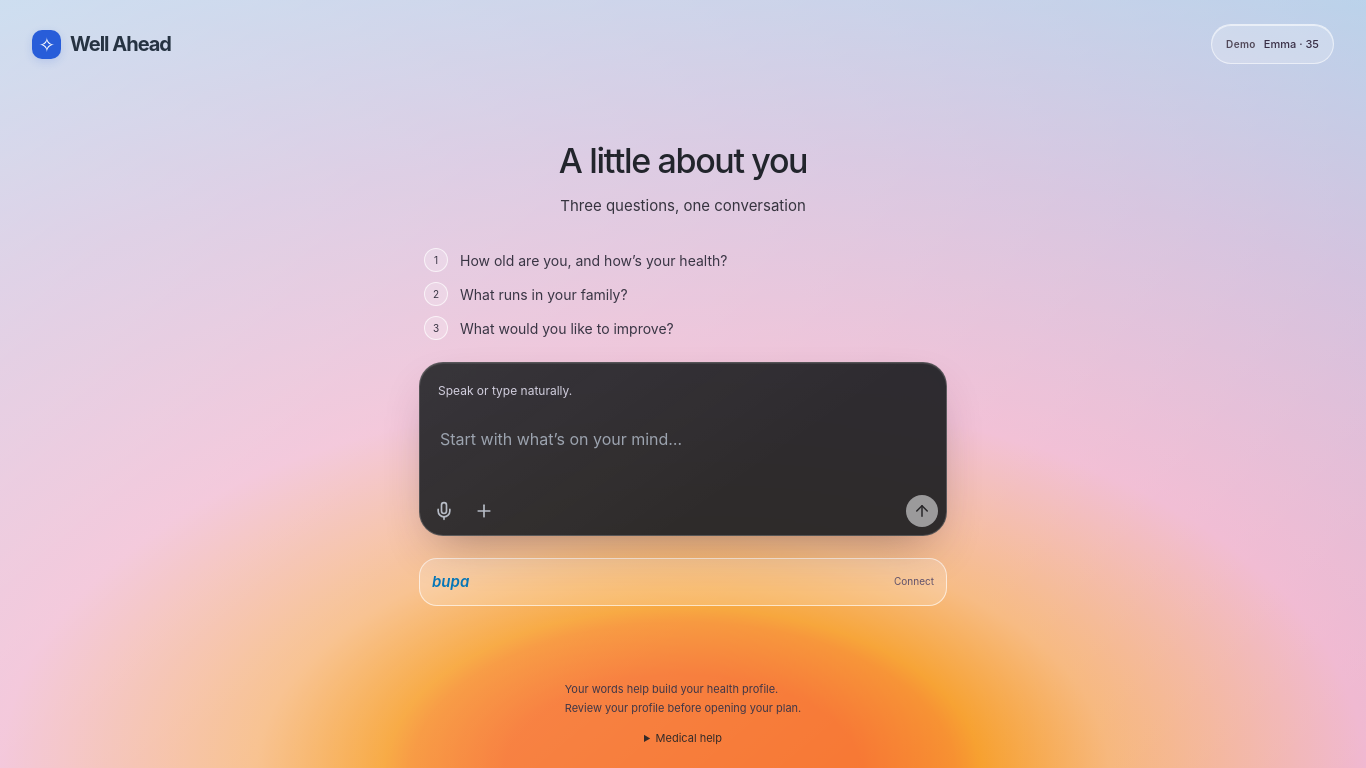
it: cancelling a plan preserves the review and ignores a late response
The width and height of the screenshot is (1366, 768).
Type "I am 56. I enjoy walking." into the text box at (683, 452), box [428, 417, 938, 487]
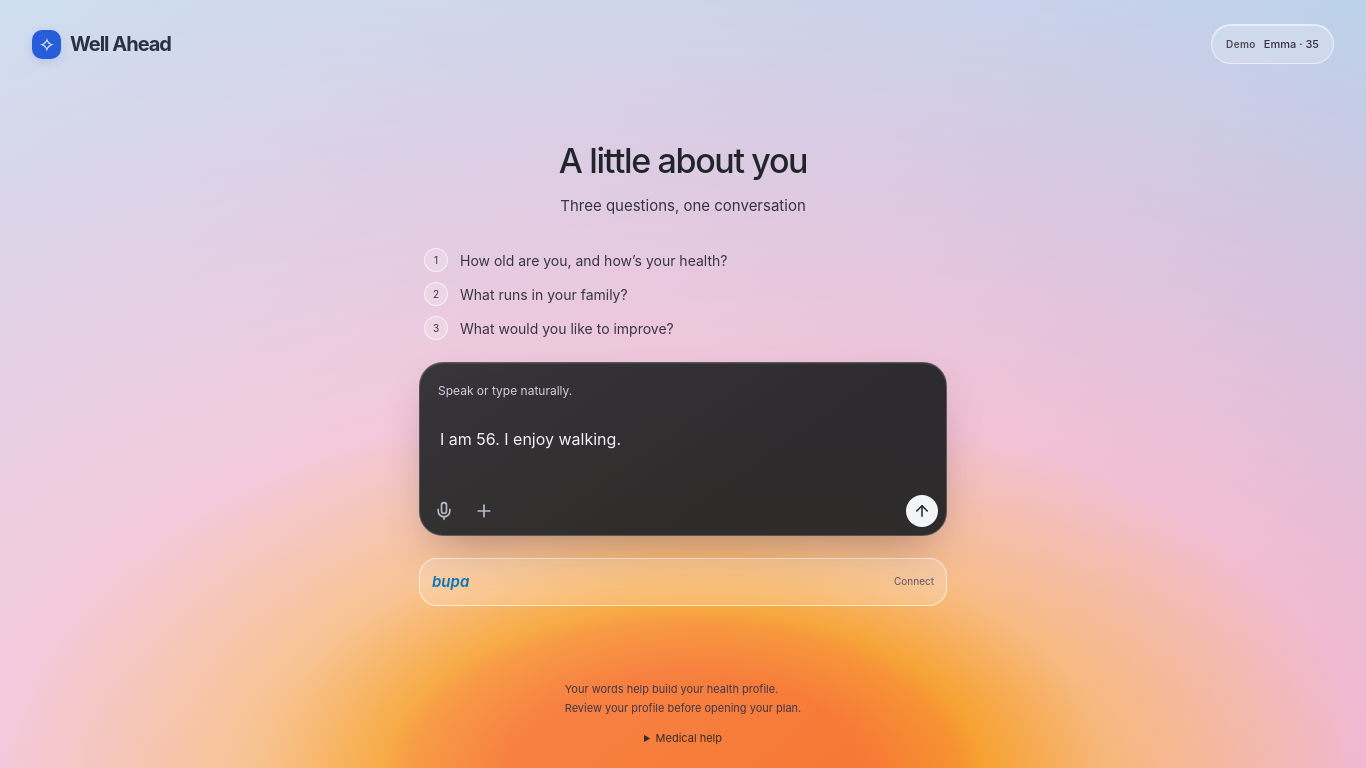
Click the button named "Review my health profile" at (922, 511), box [906, 495, 938, 527]
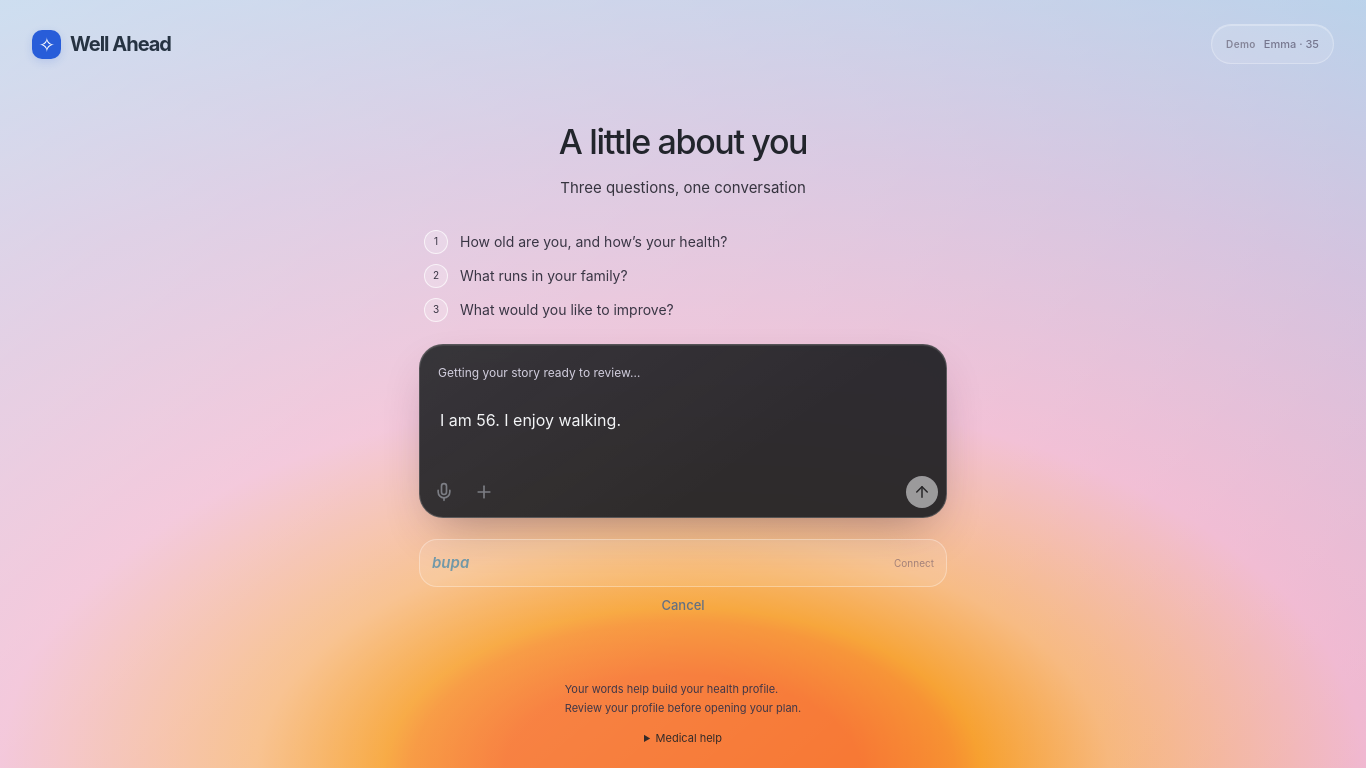
Click the button "Cancel" at (683, 606), box [661, 587, 705, 625]
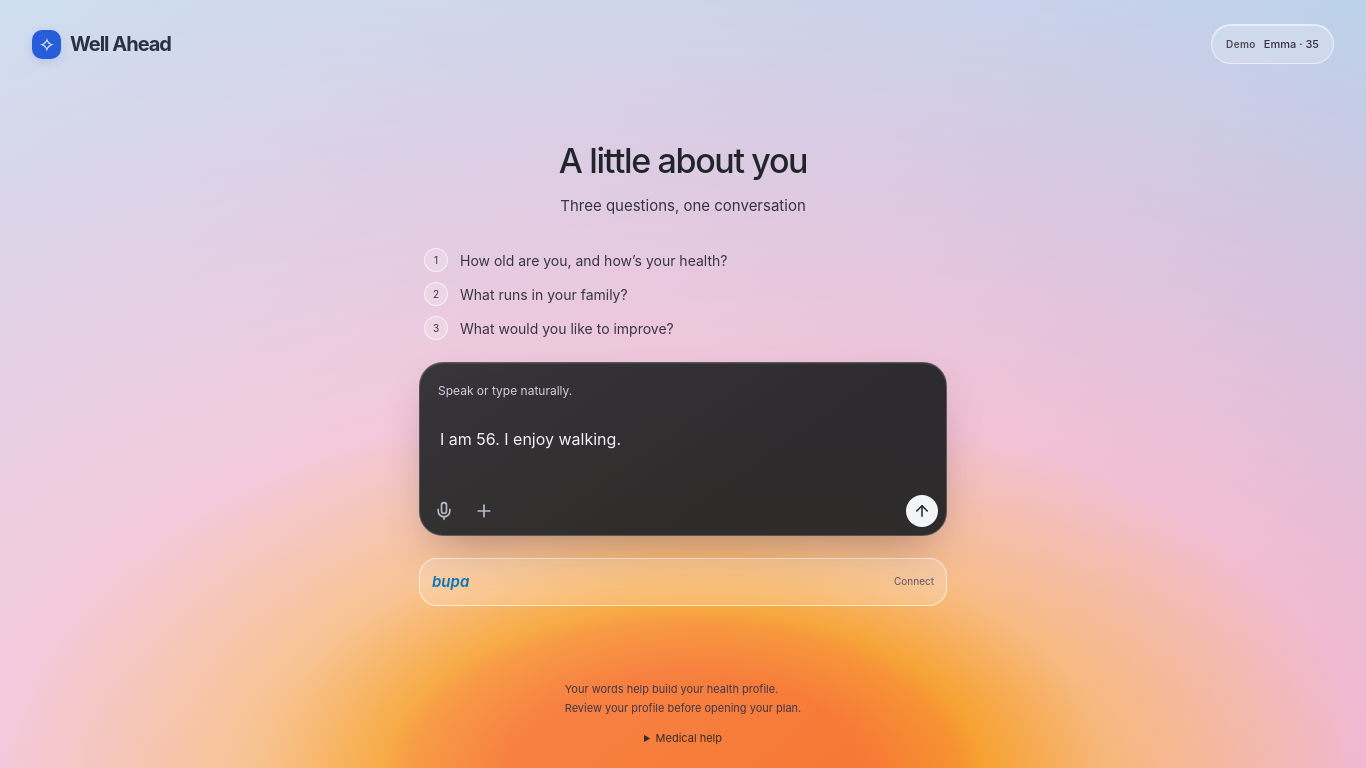
Expected: the button named "Review my health profile" is enabled, [906, 495, 938, 527]
